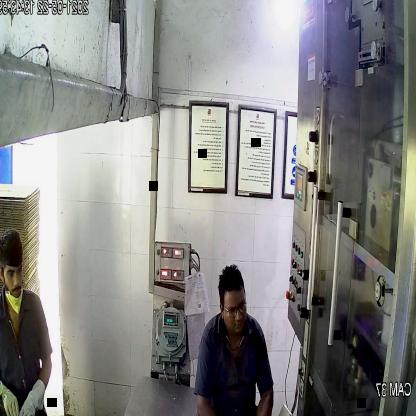goggles: (219, 298, 247, 320)
no_goggles: (1, 262, 26, 281)
